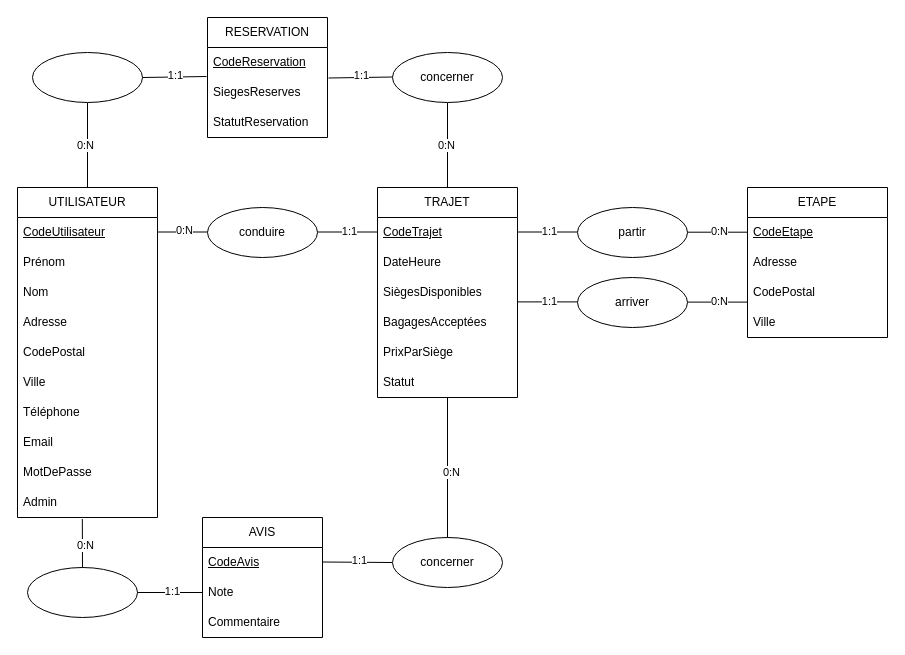
Some shapes in this 905 by 655 pixel diagram are drawn without their labels. The centre of each missing label's shape, as x and y in pixels:
faire: the point at 87,77
écrire: the point at 82,592
